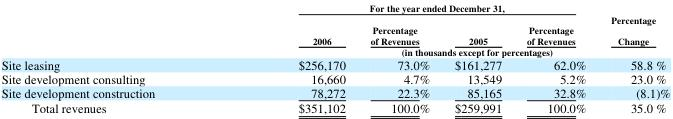table: (0, 1, 669, 115)
table column: (0, 1, 226, 115), (226, 1, 357, 115), (357, 1, 441, 115), (513, 1, 597, 115), (441, 1, 513, 115), (597, 1, 669, 115)
table column header: (0, 1, 669, 56)
table row: (0, 18, 669, 46), (0, 1, 669, 18), (0, 99, 669, 115), (0, 84, 669, 99), (0, 56, 669, 70), (0, 70, 669, 84), (0, 46, 669, 56)
table spanning cell: (226, 1, 597, 18), (226, 46, 669, 56), (597, 1, 669, 46)
